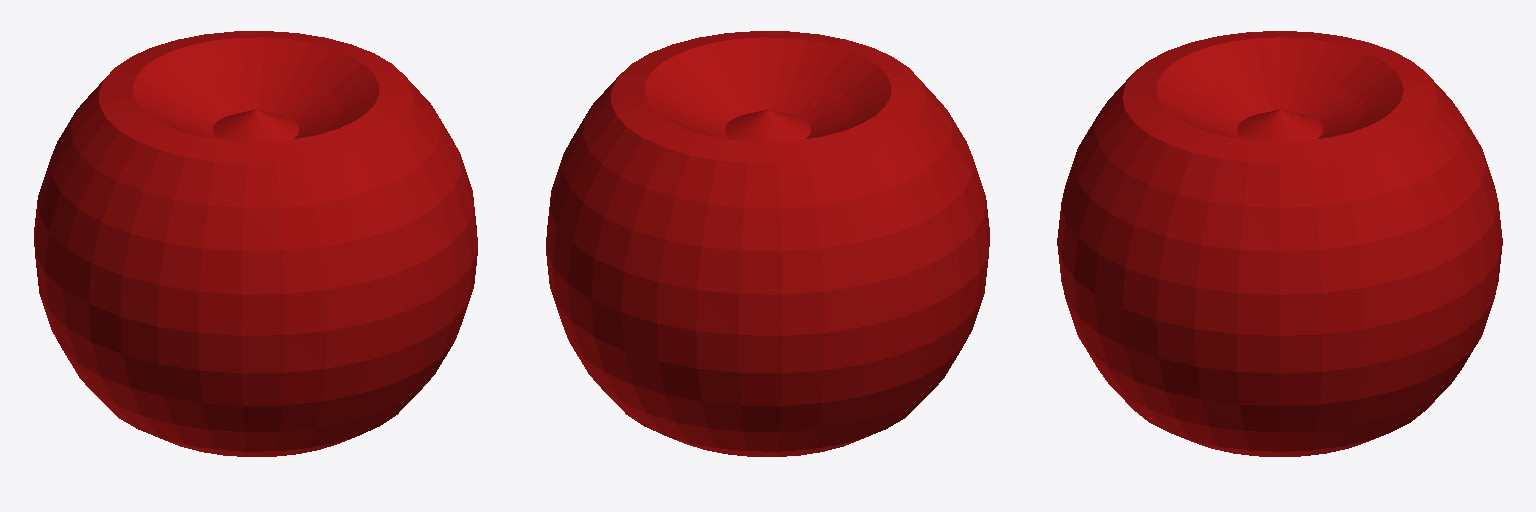
The model's file is apple.obj.
3 views of the same model, side by side, from view 1: azimuth 30°, elevation 25°; view 2: azimuth 150°, elevation 25°; view 3: azimuth 270°, elevation 25° (orthographic).
Parts seen in each view (by area): view 1: object 1; view 2: object 1; view 3: object 1.
Part boxes in pixels (x1,y1,x2,y2): object 1: (34, 31, 477, 456); object 1: (546, 31, 989, 456); object 1: (1057, 31, 1502, 456).
Size of the model in its own units: 1 by 0.8235 by 1.